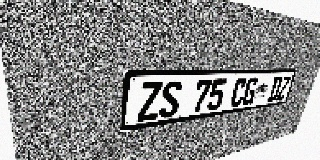5: (206, 79, 227, 111)
7: (191, 79, 212, 114)
C: (229, 78, 248, 108)
D: (267, 76, 283, 102)
G: (241, 77, 259, 106)
S: (159, 81, 183, 119)
Z: (137, 81, 163, 122), (276, 76, 291, 100)
